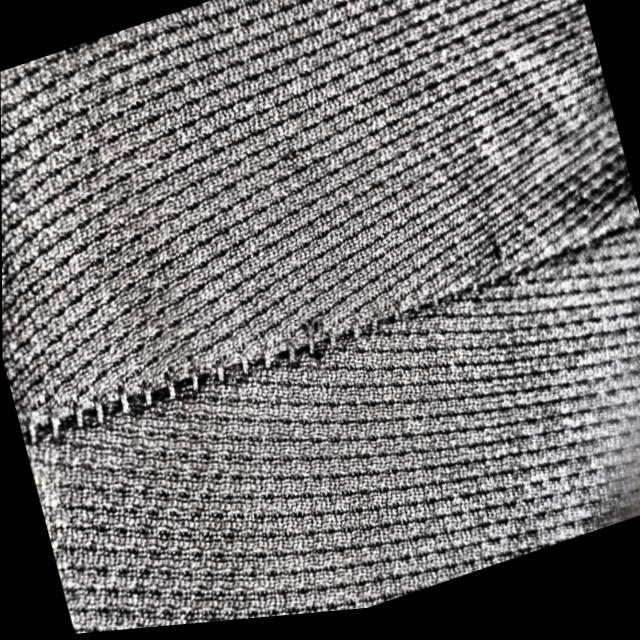Stitch: (15, 292, 399, 496)
